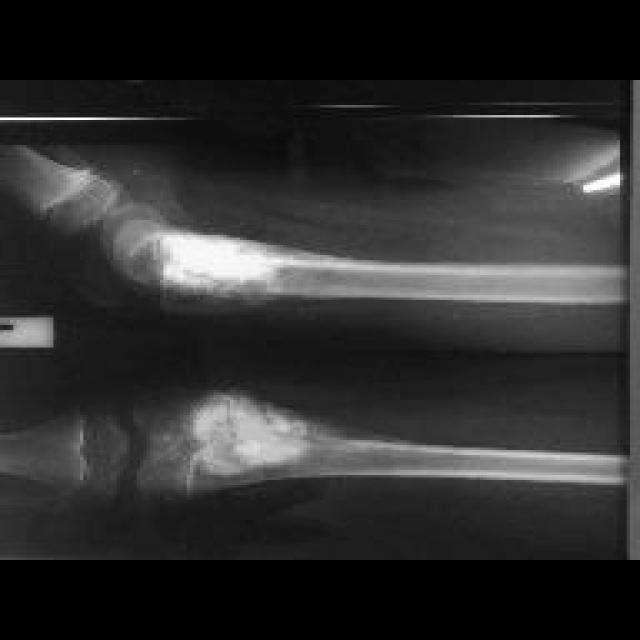bone-cancer: (187, 387, 311, 478), (169, 233, 280, 318)
